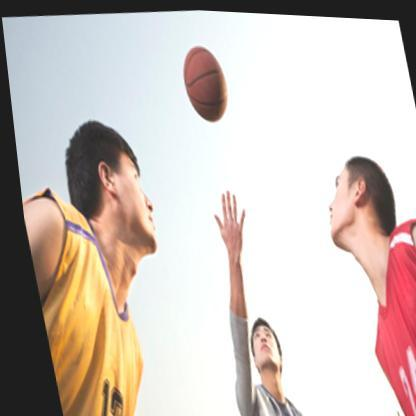basketball: (176, 41, 231, 122)
